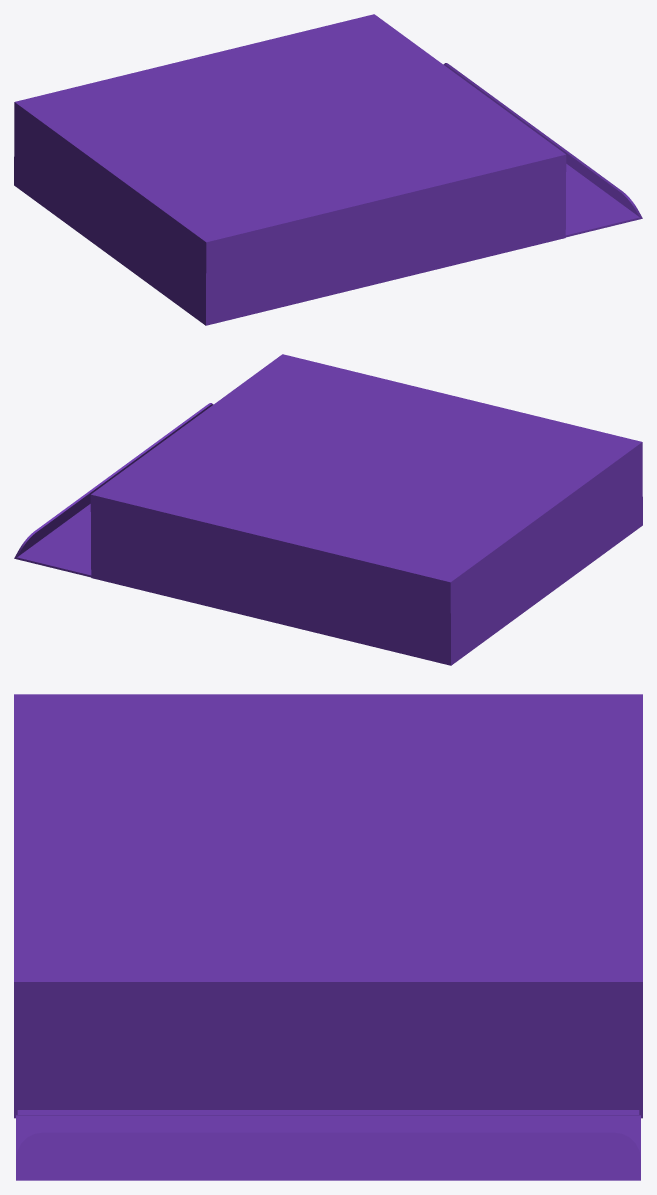
Rendered from alcohol wipe box.fbx.
3 renders of one model, top to bottom at view 1: azimuth 30°, elevation 25°; view 2: azimuth 150°, elevation 25°; view 3: azimuth 270°, elevation 25°, orthographic. The views are drawn at different scales.
Parts seen in each view (by area): view 1: kotak kasa.001, tutup kotak.003; view 2: kotak kasa.001, tutup kotak.003; view 3: kotak kasa.001, tutup kotak.003.
Part boxes in pixels (x1,y1,x2,y2): kotak kasa.001: (14, 14, 566, 325); tutup kotak.003: (443, 63, 642, 237); kotak kasa.001: (90, 354, 642, 665); tutup kotak.003: (14, 403, 213, 577); kotak kasa.001: (14, 694, 642, 1118); tutup kotak.003: (16, 1115, 640, 1180).
Bounding box in the file's own units: 0.1522 × 0.0277 × 0.1155.
